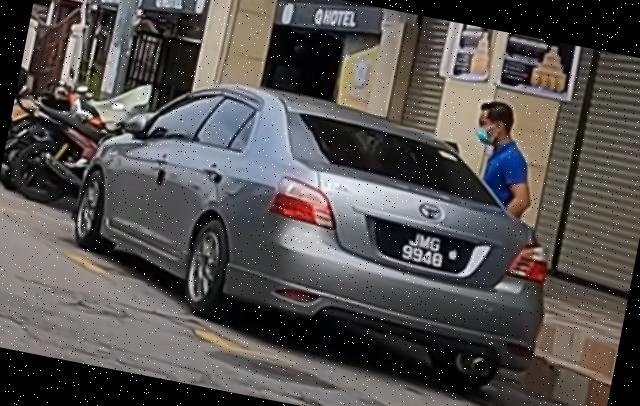License_Plate: (378, 225, 469, 277)
car: (54, 54, 578, 399)
